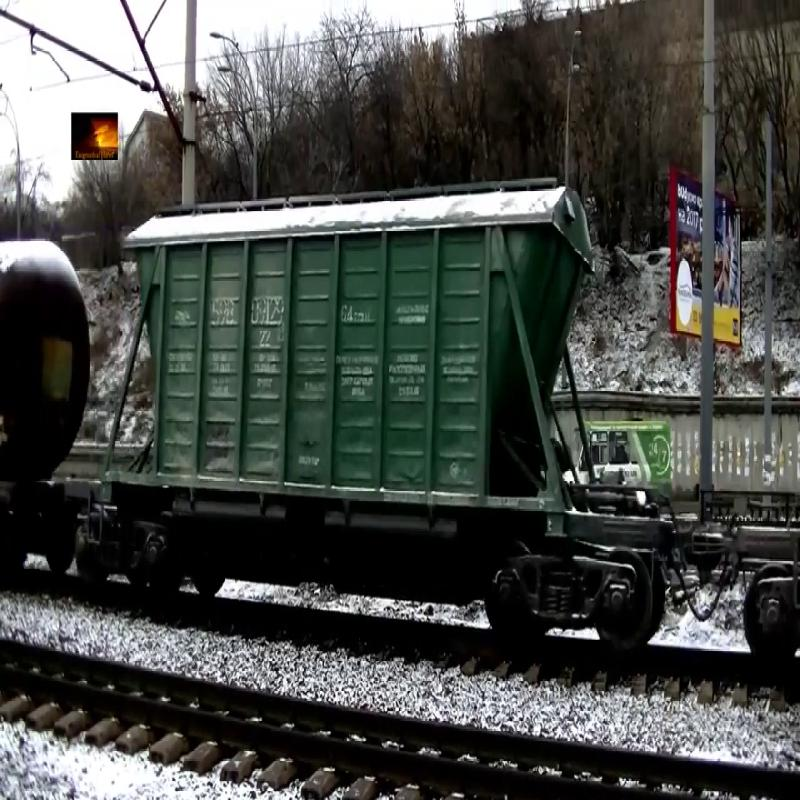train: (104, 173, 602, 533), (1, 232, 95, 511)
